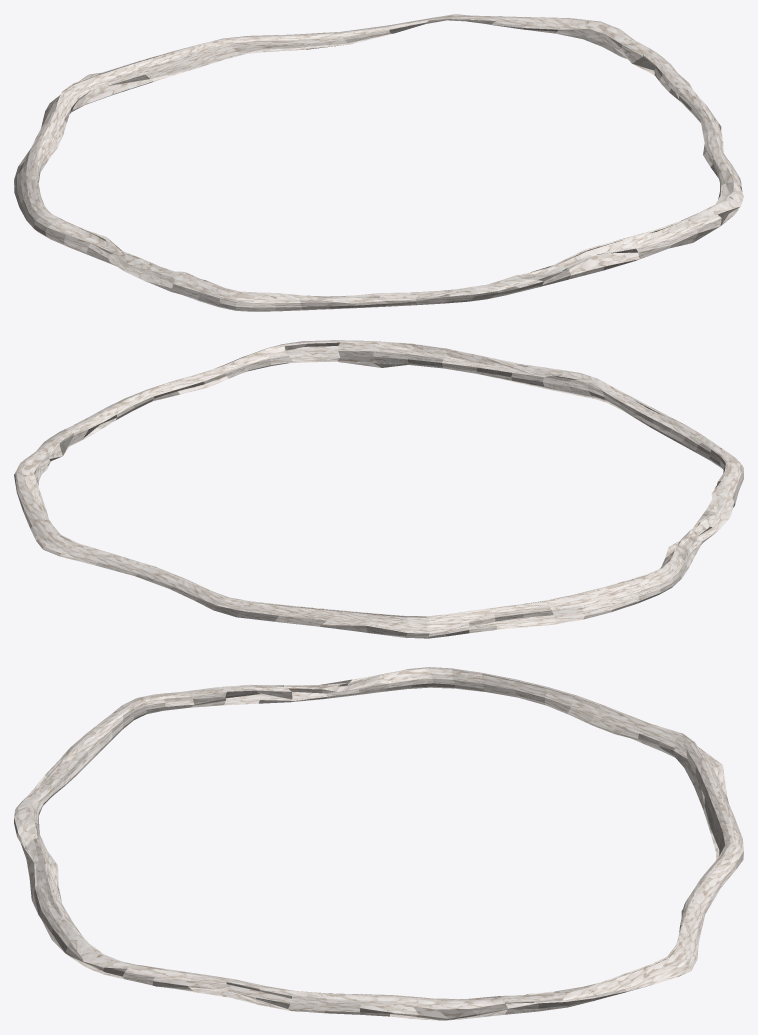
File: salt circle TW.fbx
3 renders of one model, top to bottom at view 1: azimuth 30°, elevation 25°; view 2: azimuth 150°, elevation 25°; view 3: azimuth 270°, elevation 25°, orthographic. The views are drawn at different scales.
Parts seen in each view (by area): view 1: Cube; view 2: Cube; view 3: Cube.
Boxes of the visible parts, box(x1,y1,x2,y2) form: Cube: box(14, 14, 743, 311); Cube: box(14, 340, 743, 638); Cube: box(14, 667, 743, 1020).
Bounding box in the file's own units: 1340 × 53.22 × 1211.
Materials: 1 (1 with a texture image).
